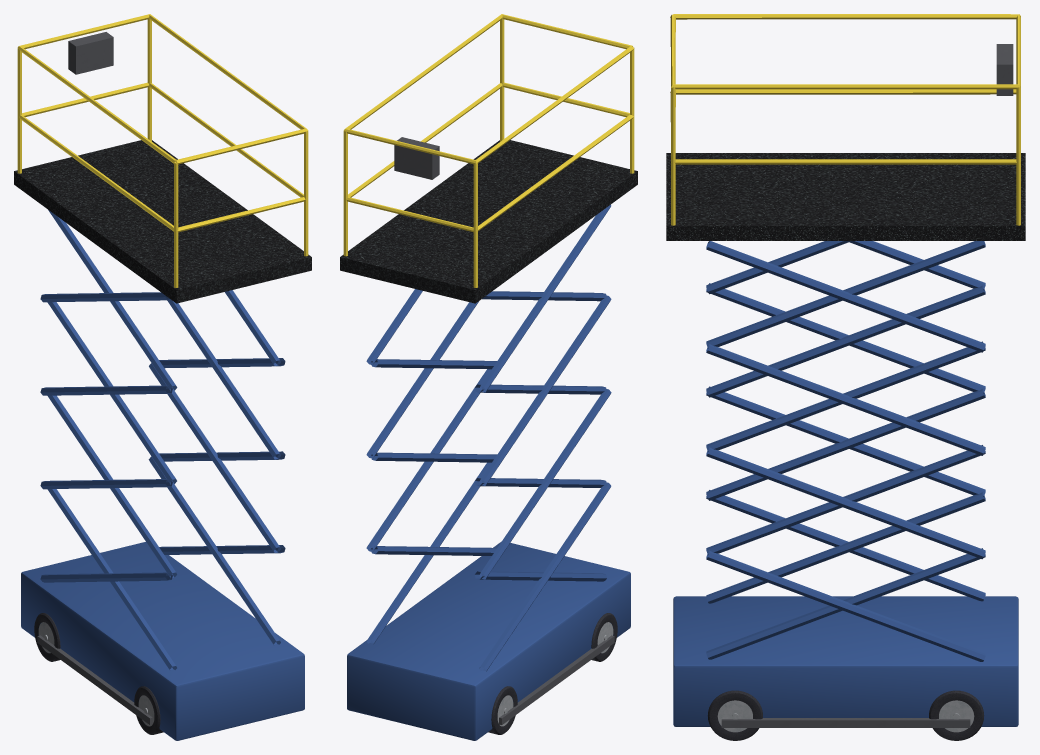
Rendered from lift_scissor_blue.gltf.
3 renders of one model, left to right at view 1: azimuth 30°, elevation 25°; view 2: azimuth 150°, elevation 25°; view 3: azimuth 270°, elevation 25°, orthographic. The views are drawn at different scales.
Visible parts, largest first — view 1: lift_scissor_blue; view 2: lift_scissor_blue; view 3: lift_scissor_blue.
Part boxes in pixels (<box>): lift_scissor_blue: <box>14,14,311,740</box>; lift_scissor_blue: <box>340,14,637,740</box>; lift_scissor_blue: <box>666,14,1025,740</box>.
Bounding box in the file's own units: 1.28 × 5.24 × 2.6.
8 materials, 5 textured.
